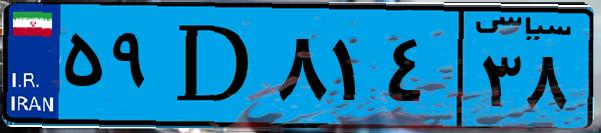1: (330, 28, 385, 110)
3: (475, 38, 525, 113)
4: (385, 28, 445, 110)
5: (57, 26, 110, 100)
8: (270, 28, 330, 110), (525, 38, 570, 115)
9: (110, 28, 158, 98)
D: (158, 12, 270, 120)
